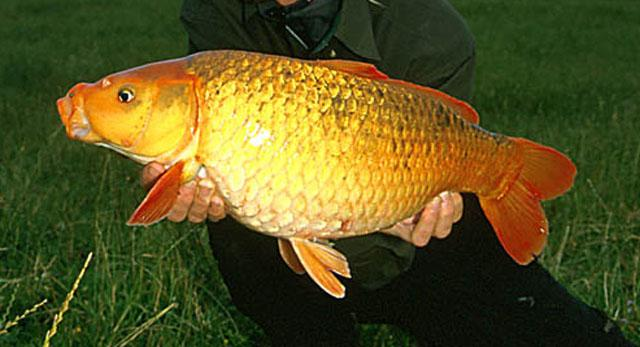Mulut: (40, 80, 94, 160)
Sirip Ekor: (478, 114, 580, 278)
Sirip Perut: (272, 221, 356, 309), (123, 159, 187, 241)
Sirip Punggung: (311, 46, 485, 130)
